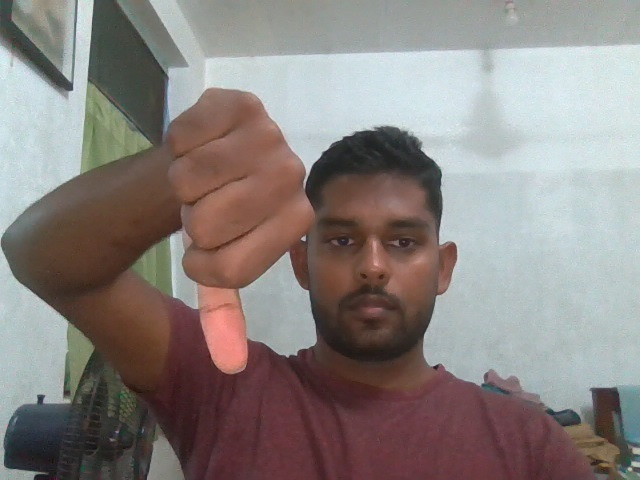dontlike: (138, 75, 322, 390)
